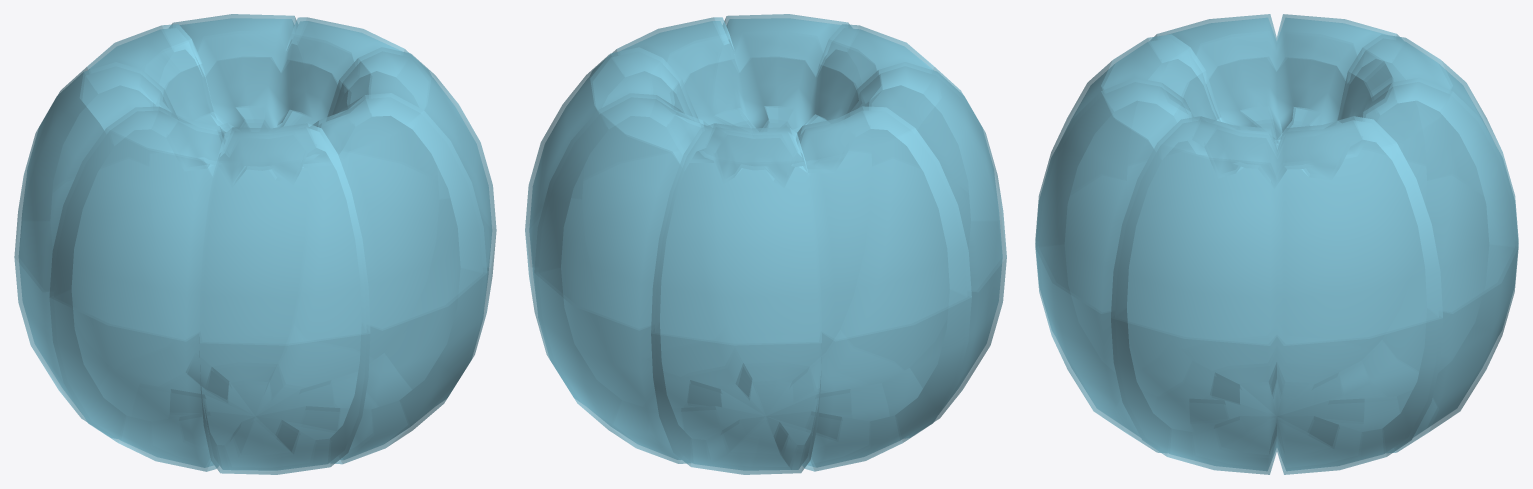
File: NewBubble3Animated.fbx
3 views of the same model, side by side, from view 1: azimuth 30°, elevation 25°; view 2: azimuth 150°, elevation 25°; view 3: azimuth 270°, elevation 25° (orthographic).
Visible parts, largest first — view 1: Bubble13; view 2: Bubble13; view 3: Bubble13.
Boxes of the visible parts, x1,y1,x2,y2 form: Bubble13: (14,14,496,474); Bubble13: (525,14,1006,474); Bubble13: (1035,14,1518,474).
Size of the model in its own units: 78.82 by 62.83 by 78.82.
